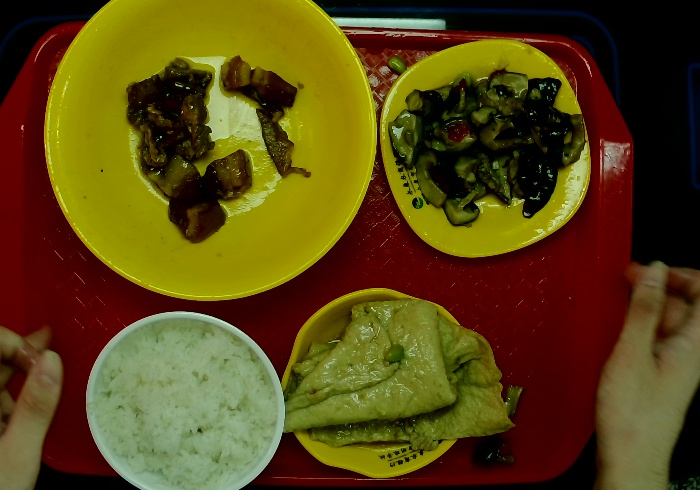YKMZ-Fan_Wan: (80, 305, 290, 487)
YKMZ-Huang_Se_Ao_Bian_Wan: (279, 280, 470, 482)
YKMZ-Huang_Se_Fang_Die: (375, 34, 595, 264)
YKMZ-Huang_Se_Tang_Wan: (38, 1, 382, 306)
